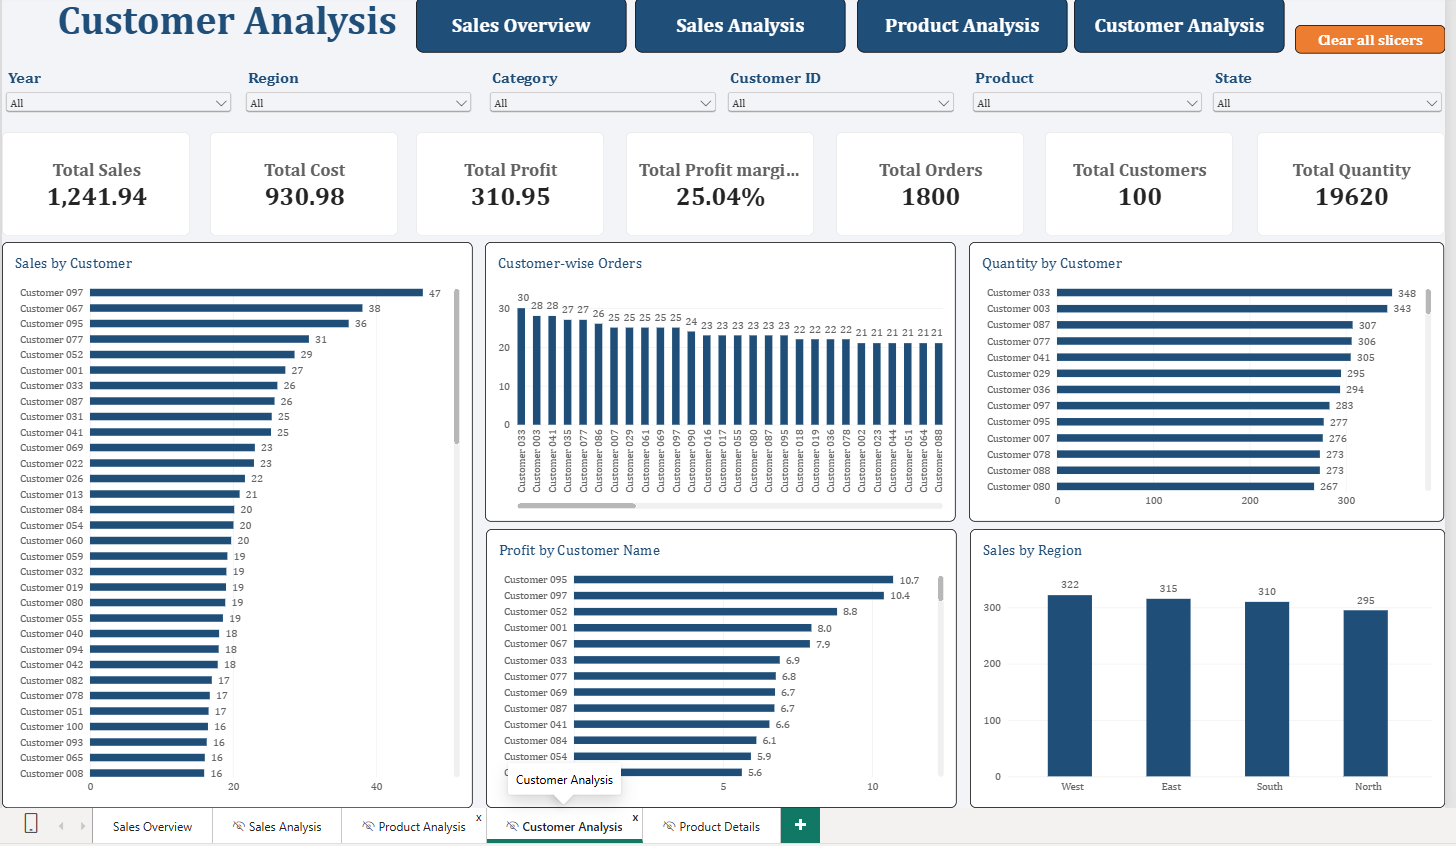

Layout of this report page (visuals, bound fields, positions):
{"tool":"powerbi","page":{"name":"Customer Analysis","canvas":[1920,1080],"ordinal":3},"visuals":[{"type":"textbox","box":[62.7,0,474.2,75.9],"z":0},{"type":"slicer","fields":{"Values":["Dim_Date.Year"]},"box":[0,87.5,310,93.7],"z":1000},{"type":"slicer","fields":{"Values":["Sales_Data.Region"]},"box":[319.5,87.5,310.3,93.7],"z":2000},{"type":"slicer","fields":{"Values":["Product_Master.Category"]},"box":[643.4,87.5,310.8,93.4],"z":3000},{"type":"slicer","fields":{"Values":["Customer_Master.Customer ID"]},"box":[960.8,88,310.8,93.4],"z":4000},{"type":"slicer","fields":{"Values":["Product_Master.Product"]},"box":[1286.8,87.5,315.1,93.4],"z":5000},{"type":"slicer","fields":{"Values":["Sales_Data.State"]},"box":[1604.9,87.5,315,93.7],"z":6000},{"type":"cardVisual","title":"Total Sales ","fields":{"Data":["Sales_Data.Total Sales (lakh)"]},"box":[0,180.9,250,139],"z":7000},{"type":"cardVisual","title":"Total Sales ","fields":{"Data":["Sales_Data.total cost (lakh)"]},"box":[277.2,180.9,250,139],"z":8000},{"type":"cardVisual","title":"Total Sales ","fields":{"Data":["Sales_Data.Total Profit (lakh)"]},"box":[550,180.9,250,139],"z":9000},{"type":"cardVisual","title":"Total Sales ","fields":{"Data":["Sales_Data.Total Profit margin %"]},"box":[830.2,180.9,250,139],"z":10000},{"type":"cardVisual","title":"Total Sales ","fields":{"Data":["Sales_Data.Total Orders"]},"box":[1108.8,180.9,250,139],"z":11000},{"type":"cardVisual","title":"Total Sales ","fields":{"Data":["Sales_Data.Total Customers"]},"box":[1387.5,180.9,250,139],"z":12000},{"type":"cardVisual","title":"Total Sales ","fields":{"Data":["Sales_Data.Total Quantity"]},"box":[1669.1,180.9,250,139],"z":13000},{"type":"actionButton","box":[1720.1,37.9,199.9,37.9],"z":14000},{"type":"actionButton","box":[550,1.5,280,74.4],"z":15000},{"type":"actionButton","box":[841.8,1.5,280,74.4],"z":16000},{"type":"actionButton","box":[1136.5,1.5,280,74.4],"z":17000},{"type":"actionButton","box":[1425.4,1.5,280,74.4],"z":18000},{"type":"clusteredBarChart","title":"Sales by Customer","fields":{"Category":["Customer_Master.Customer Name"],"Y":["Sales_Data.Total Sales (lakh)"]},"box":[0,326.8,625.9,752.8],"z":19000},{"type":"clusteredColumnChart","title":"Customer-wise Orders","fields":{"Category":["Customer_Master.Customer Name"],"Y":["Sales_Data.Total Orders"]},"box":[641.9,326.8,625.9,372],"z":20000},{"type":"clusteredBarChart","title":"Profit by Customer Name","fields":{"Category":["Customer_Master.Customer Name"],"Y":["Sales_Data.Total Profit (lakh)"]},"box":[643.4,709.1,625.9,370.6],"z":21000},{"type":"clusteredBarChart","title":"Quantity by Customer","fields":{"Y":["Sales_Data.Total Quantity"],"Category":["Customer_Master.Customer Name"]},"box":[1286.8,326.8,631.7,372],"z":22000},{"type":"columnChart","title":"Sales by Region","fields":{"Category":["Sales_Data.Region"],"Y":["Sales_Data.Total Sales (lakh)"]},"box":[1287,709,632,371],"z":23000}]}

Visuals, with their boxes on the page's 1920x1080 design canvas (x1, y1, x2, y2). These are canvas units, not pixel positions in the 1456x846 screenshot, which may show the page scaled, cropped or inside an application window:
textbox: locate(63, 0, 537, 76)
slicer - Dim_Date.Year: locate(0, 88, 310, 181)
slicer - Sales_Data.Region: locate(320, 88, 630, 181)
slicer - Product_Master.Category: locate(643, 88, 954, 181)
slicer - Customer_Master.Customer ID: locate(961, 88, 1272, 181)
slicer - Product_Master.Product: locate(1287, 88, 1602, 181)
slicer - Sales_Data.State: locate(1605, 88, 1920, 181)
"Total Sales " cardVisual: locate(0, 181, 250, 320)
"Total Sales " cardVisual: locate(277, 181, 527, 320)
"Total Sales " cardVisual: locate(550, 181, 800, 320)
"Total Sales " cardVisual: locate(830, 181, 1080, 320)
"Total Sales " cardVisual: locate(1109, 181, 1359, 320)
"Total Sales " cardVisual: locate(1388, 181, 1638, 320)
"Total Sales " cardVisual: locate(1669, 181, 1919, 320)
actionButton: locate(1720, 38, 1920, 76)
actionButton: locate(550, 2, 830, 76)
actionButton: locate(842, 2, 1122, 76)
actionButton: locate(1136, 2, 1416, 76)
actionButton: locate(1425, 2, 1705, 76)
"Sales by Customer" clusteredBarChart: locate(0, 327, 626, 1080)
"Customer-wise Orders" clusteredColumnChart: locate(642, 327, 1268, 699)
"Profit by Customer Name" clusteredBarChart: locate(643, 709, 1269, 1080)
"Quantity by Customer" clusteredBarChart: locate(1287, 327, 1918, 699)
"Sales by Region" columnChart: locate(1287, 709, 1919, 1080)
